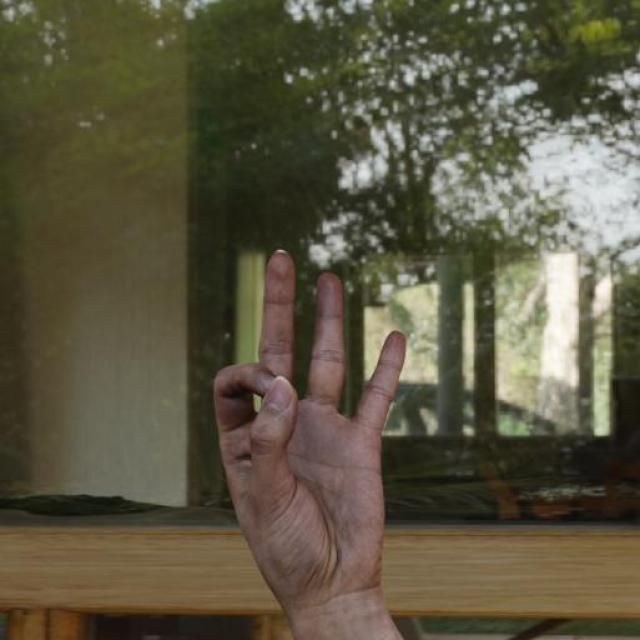F: (205, 241, 408, 604)
